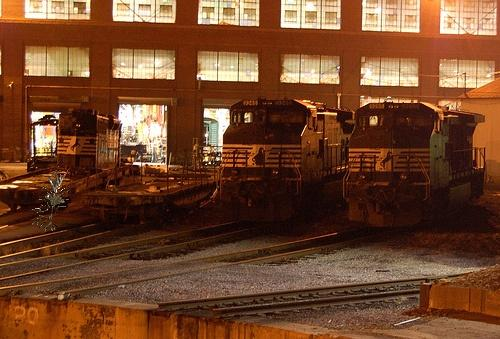tampered: (33, 167, 70, 231)
